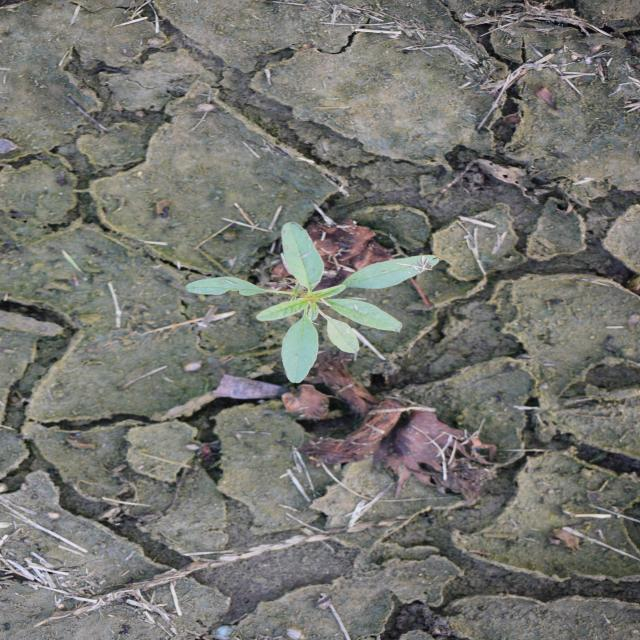Waterhemp: (182, 220, 442, 385)
